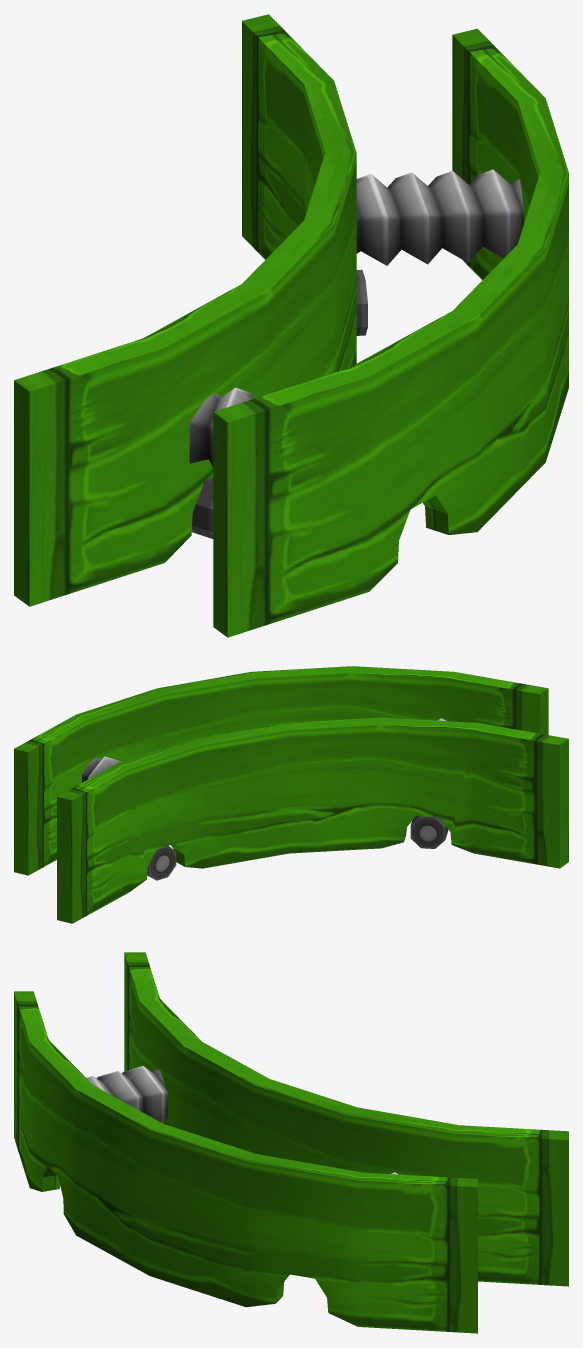
The model's file is dynamic_arched_fence_green_03.fbx.
The picture shows the model from 3 angles, top to bottom: view 1: azimuth 30°, elevation 25°; view 2: azimuth 150°, elevation 25°; view 3: azimuth 270°, elevation 25°; orthographic projection. The views are drawn at different scales.
Visible parts, largest first — view 1: dynamic_arched_fence_green_03; view 2: dynamic_arched_fence_green_03; view 3: dynamic_arched_fence_green_03.
Part boxes in pixels (bbox=[...]): dynamic_arched_fence_green_03: bbox=[14, 14, 568, 637]; dynamic_arched_fence_green_03: bbox=[14, 666, 568, 923]; dynamic_arched_fence_green_03: bbox=[14, 952, 568, 1333].
Size of the model in its own units: 138 by 40 by 138.
